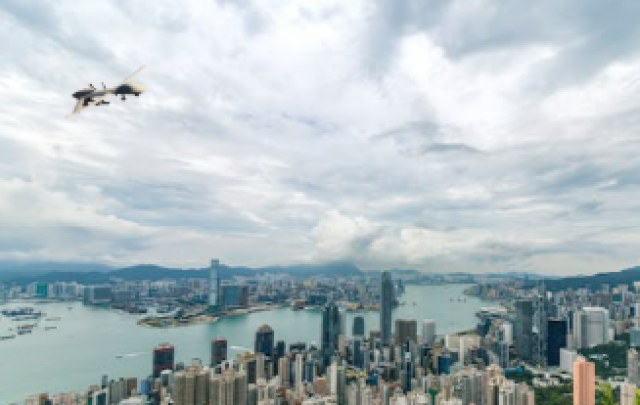military drone: (63, 63, 147, 119)
